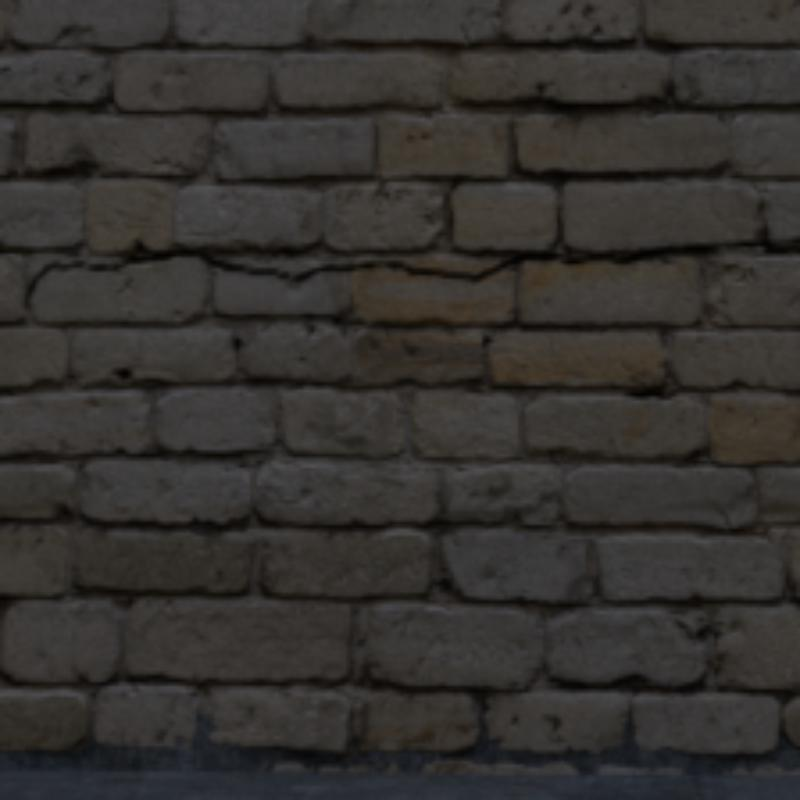crack: (18, 239, 796, 311)
